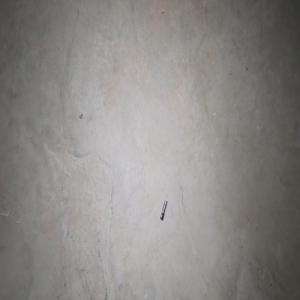Battery: (160, 199, 167, 220)
